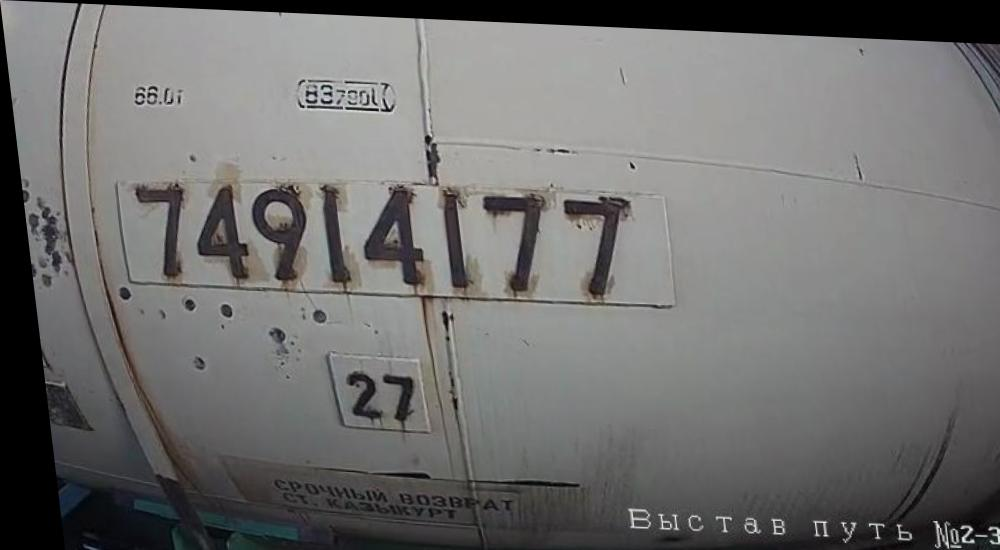Wagon-number: (113, 169, 639, 302)
